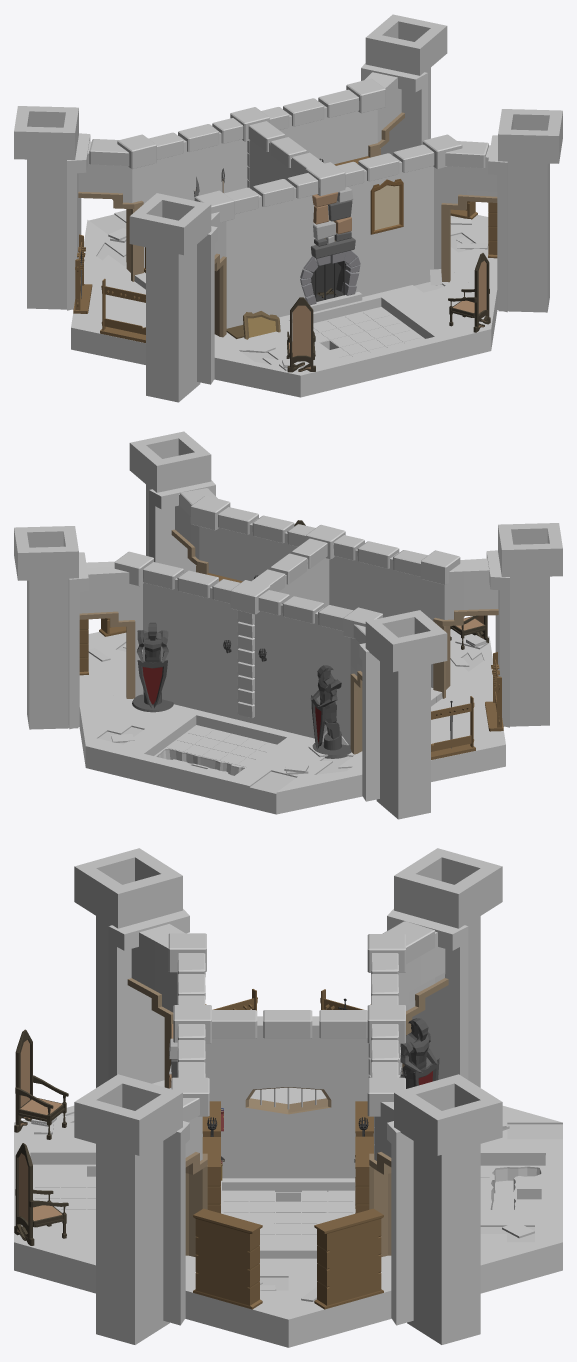
Rendered from firstfloor.fbx.
3 views of the same model, one above another, from view 1: azimuth 30°, elevation 25°; view 2: azimuth 150°, elevation 25°; view 3: azimuth 270°, elevation 25° (orthographic). The views are drawn at different scales.
Visible parts, largest first — view 1: firstfloor; view 2: firstfloor; view 3: firstfloor.
Part boxes in pixels (left/top/right/bottom): firstfloor: left=14, top=14, right=562, bottom=402; firstfloor: left=14, top=431, right=562, bottom=819; firstfloor: left=14, top=848, right=562, bottom=1347.
Bounding box in the file's own units: 248 × 98.6 × 210.
